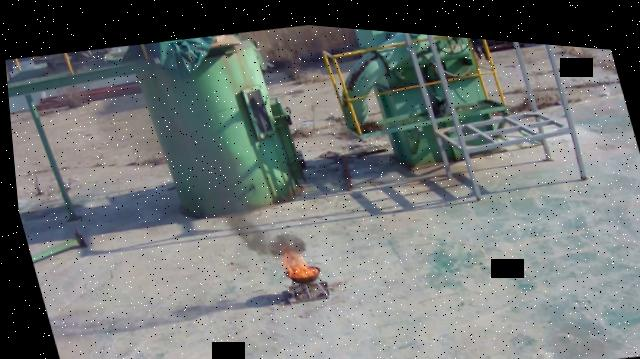fire: (274, 243, 316, 277)
smoke: (195, 141, 307, 267)
